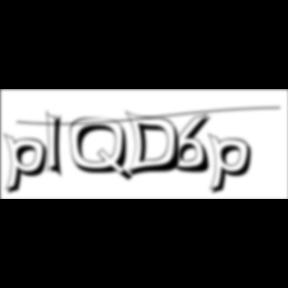6: (172, 112, 218, 176)
D: (124, 110, 188, 180)
Q: (70, 117, 136, 184)
l: (46, 108, 70, 182)
p: (4, 132, 54, 198), (209, 132, 259, 198)
